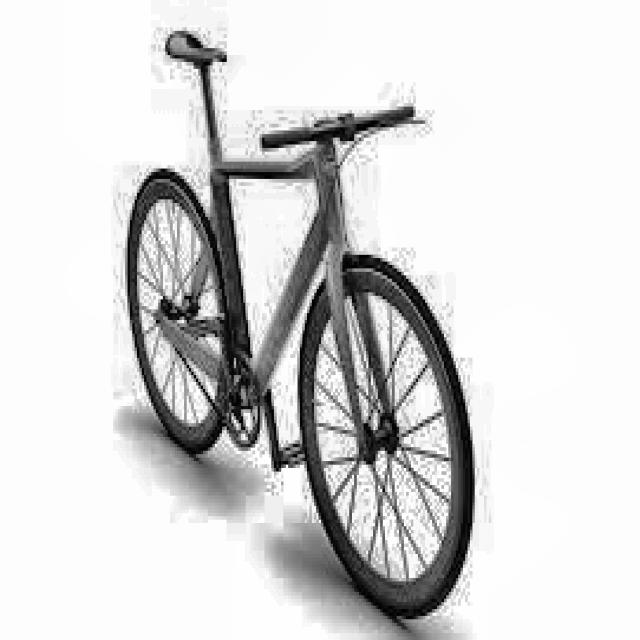bicycle: (126, 26, 477, 630)
